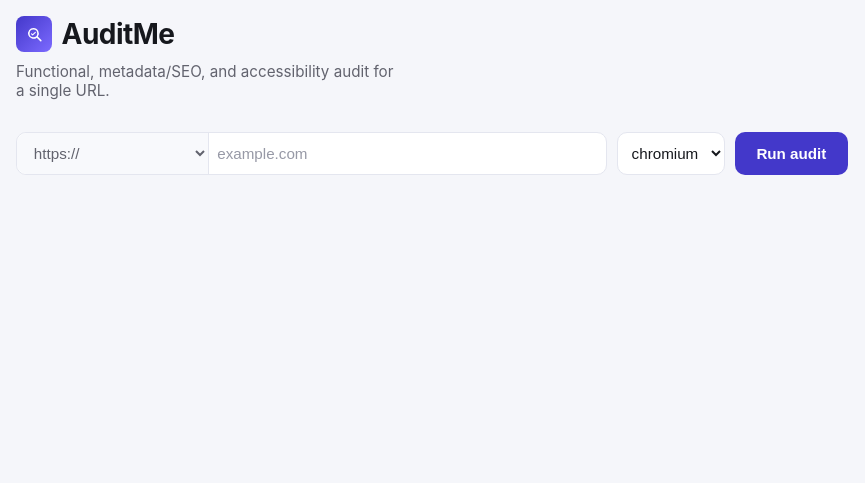
Test case: App › renders the summary and findings table on success
Type "https://example.com" into the field with placeholder "example.com".
click(408, 153); type("https://example.com")  # box x1=209 y1=133 x2=606 y2=174
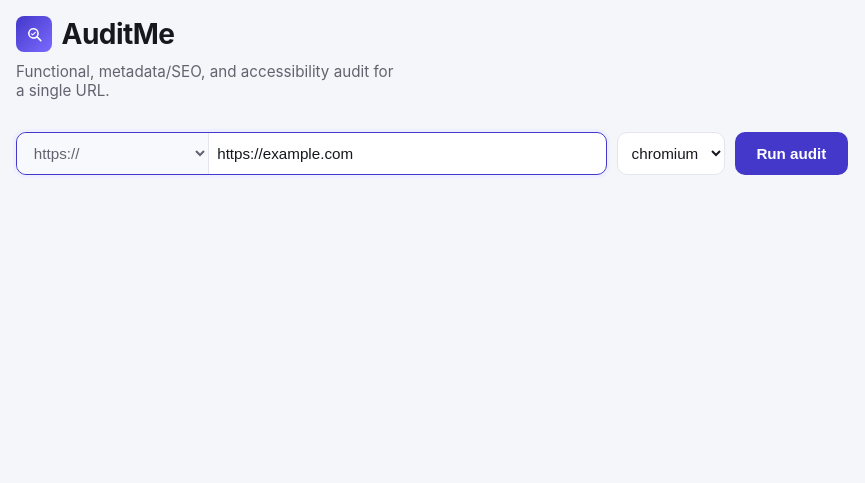
Click the button "Run audit".
click(791, 153)  # box x1=735 y1=132 x2=848 y2=175
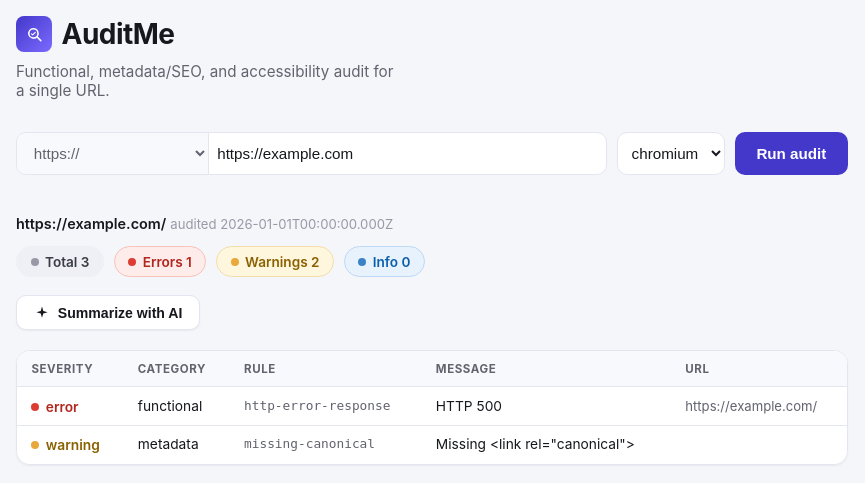
Now the text "Total 3" is shown, box x1=16 y1=246 x2=104 y2=277
Now the text "Errors 1" is shown, box x1=114 y1=246 x2=206 y2=277
Now the text "Warnings 2" is shown, box x1=216 y1=246 x2=334 y2=277
